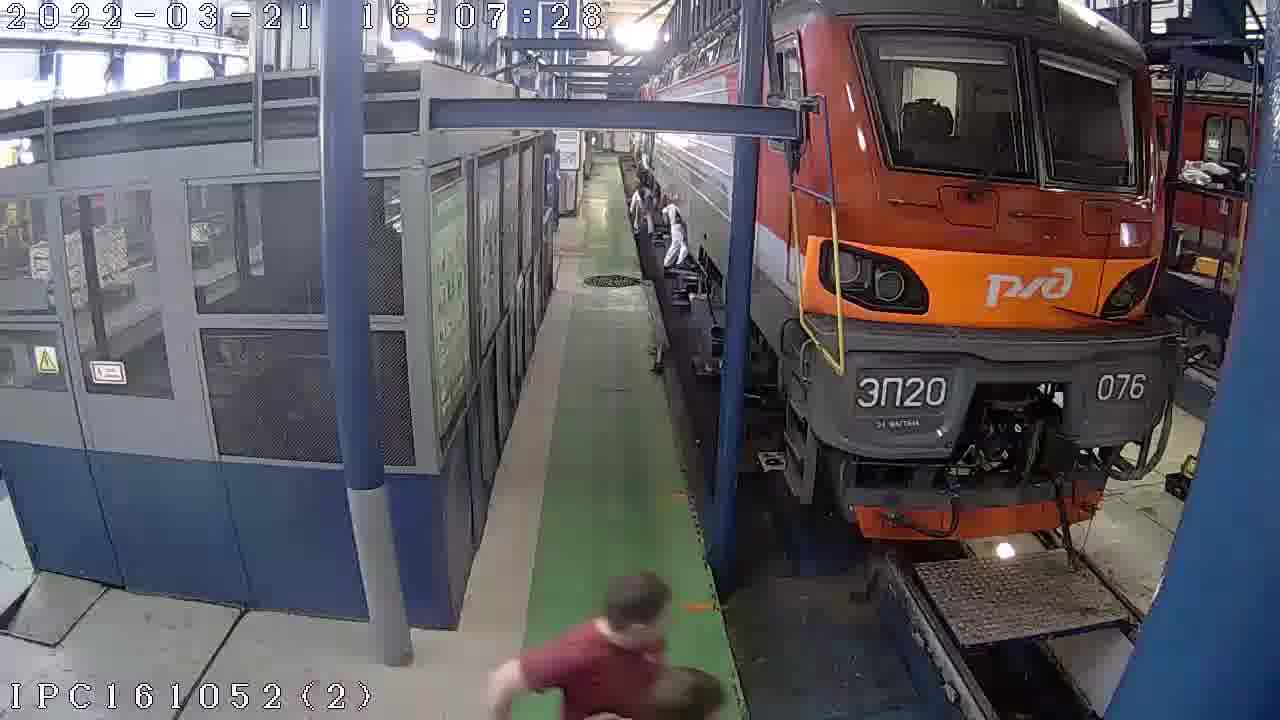person: (494, 559, 673, 715), (580, 657, 730, 717)
train: (660, 202, 694, 271), (625, 186, 657, 238)
worker: (629, 0, 1243, 543)
